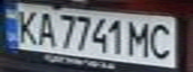1: (106, 17, 127, 55)
4: (90, 15, 109, 53)
7: (54, 11, 75, 50), (72, 13, 93, 51)
A: (33, 9, 57, 47)
C: (145, 20, 178, 58)
K: (12, 7, 42, 45)
M: (124, 18, 154, 57)
